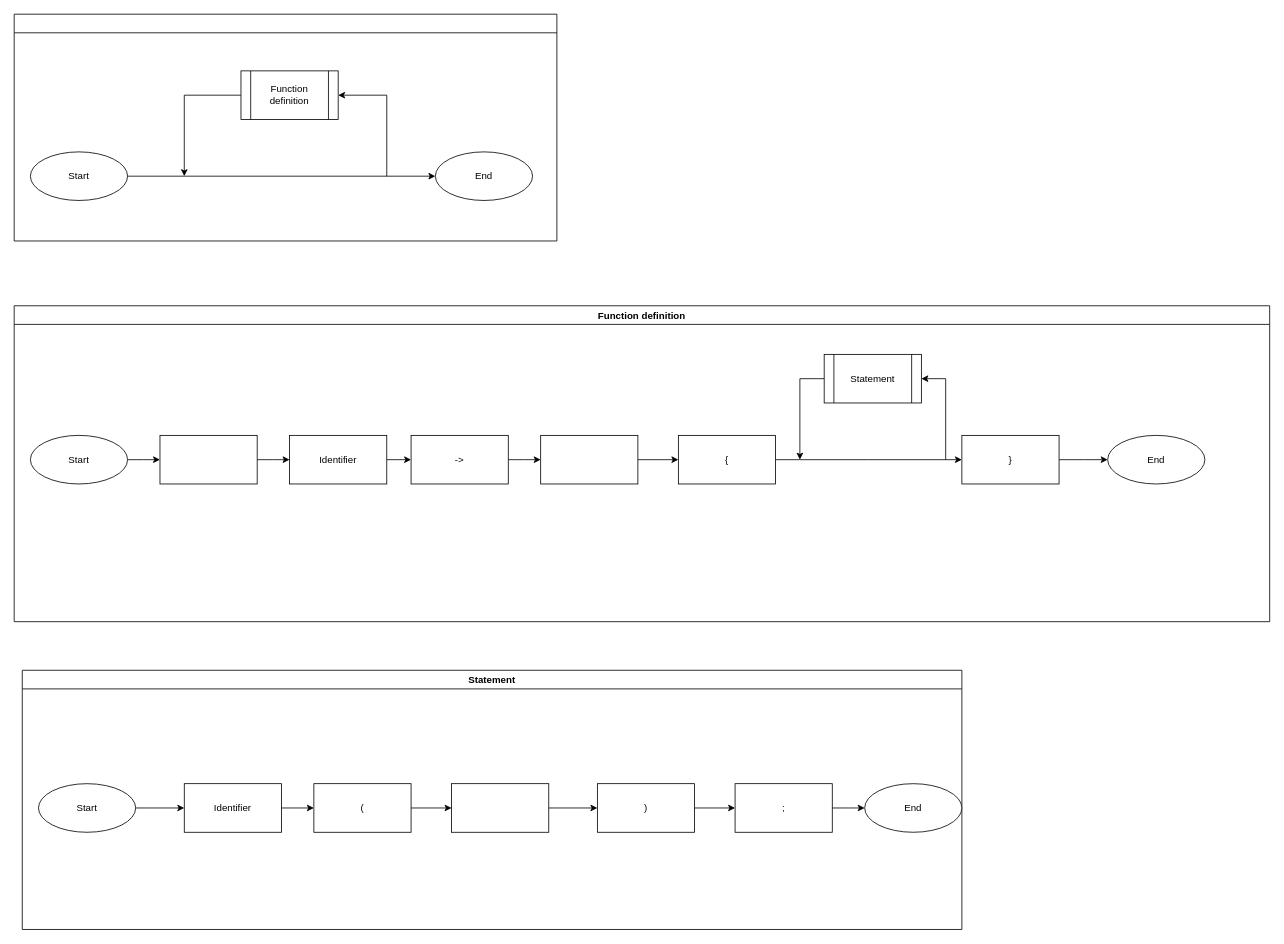
This 1284x944 diagram has some shape labels left out. The shapes that lost their labels are listed below. From the top down, each one's box as (x1, y1, x2, y2) in pixels, then its label:
(13, 13, 557, 241): Program
(159, 435, 257, 484): Keyword: func
(540, 435, 638, 484): Keyword: any
(451, 783, 549, 832): String literal
